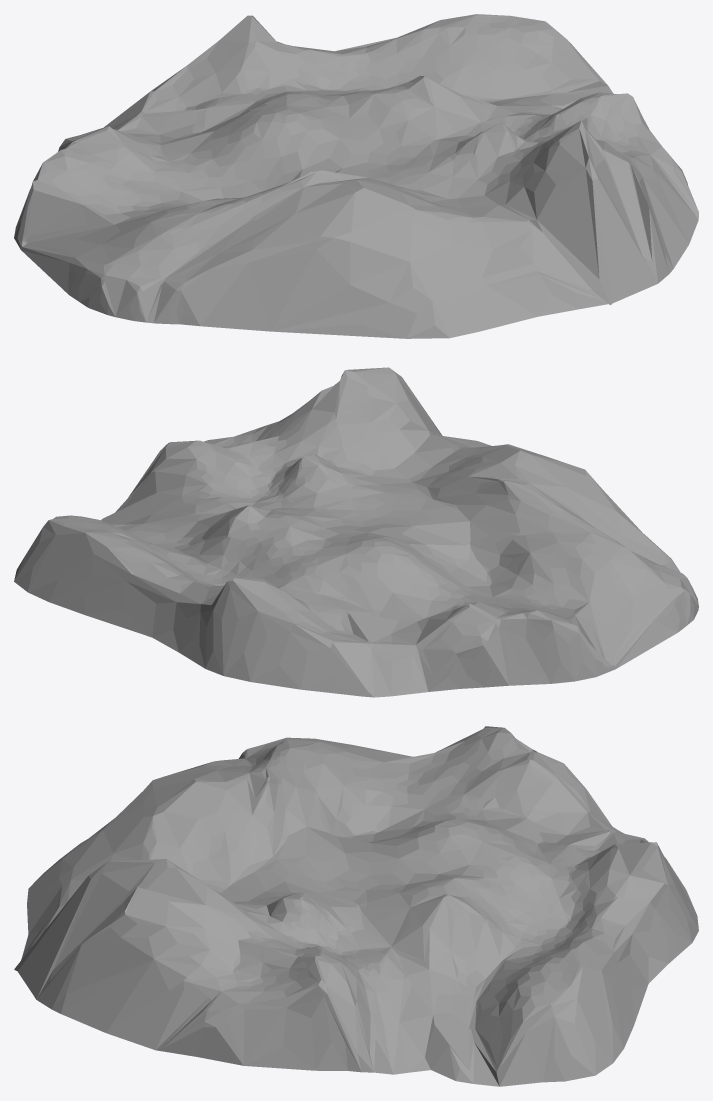
Rendered from Hill_030.glb.
3 views of the same model, one above another, from view 1: azimuth 30°, elevation 25°; view 2: azimuth 150°, elevation 25°; view 3: azimuth 270°, elevation 25° (orthographic). The views are drawn at different scales.
Parts seen in each view (by area): view 1: Hill_030; view 2: Hill_030; view 3: Hill_030.
Part boxes in pixels (x1,y1,x2,y2): Hill_030: [14, 14, 698, 338]; Hill_030: [14, 367, 698, 697]; Hill_030: [14, 726, 698, 1086].
Bounding box in the file's own units: 12.25 × 2.33 × 10.92.
Materials: 1 (1 with a texture image).
